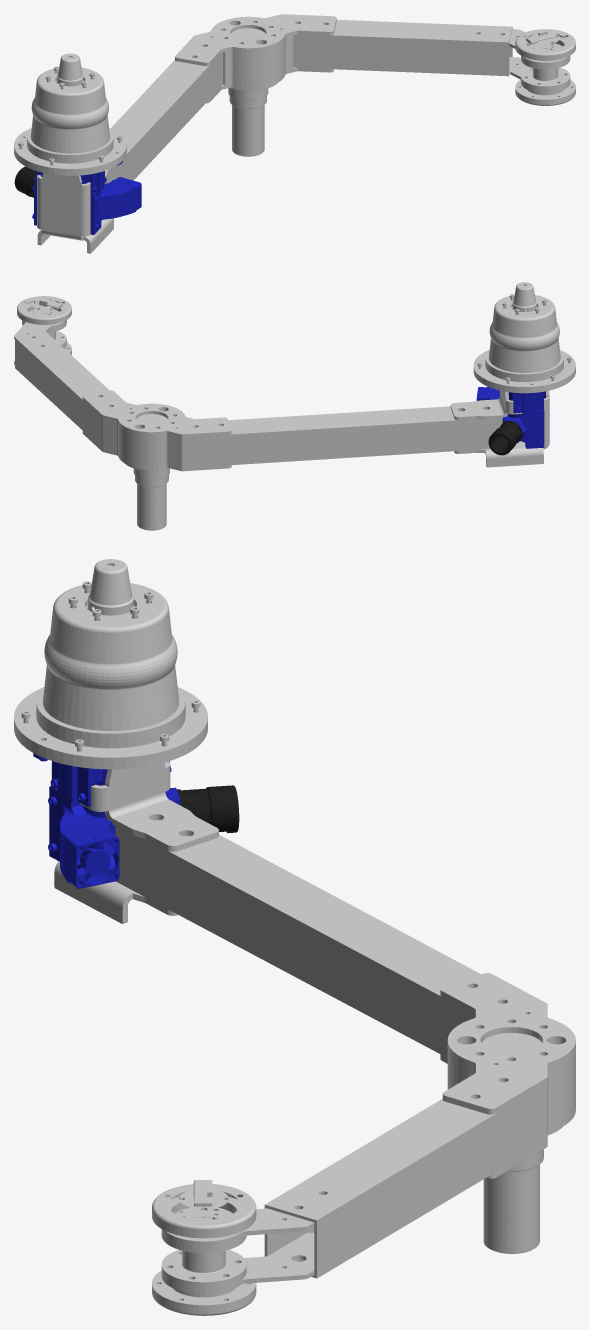
File: zawieszenie_prawo.dae
The picture shows the model from 3 angles, top to bottom: view 1: azimuth 30°, elevation 25°; view 2: azimuth 150°, elevation 25°; view 3: azimuth 270°, elevation 25°; orthographic projection. The views are drawn at different scales.
Parts seen in each view (by area): view 1: Zawieszenie Prawo; view 2: Zawieszenie Prawo; view 3: Zawieszenie Prawo.
Boxes of the visible parts, box(x1,y1,x2,y2) form: Zawieszenie Prawo: box(14, 14, 575, 253); Zawieszenie Prawo: box(14, 282, 575, 530); Zawieszenie Prawo: box(14, 559, 575, 1315).
Bounding box in the file's own units: 0.7146 × 0.3501 × 0.2959.
